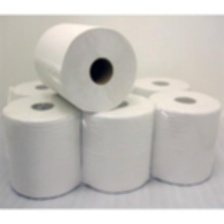tissue: (29, 18, 142, 117), (0, 90, 87, 203), (73, 90, 158, 197), (142, 83, 224, 190), (7, 74, 66, 106), (129, 73, 195, 99)
